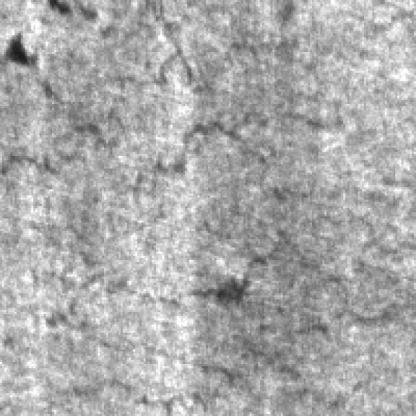crazing: (46, 193, 416, 409), (6, 37, 412, 204)
